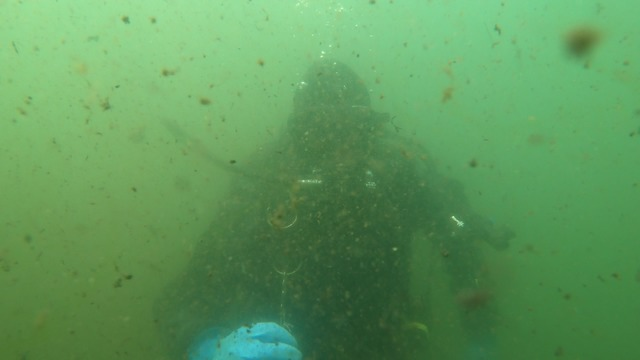Diver: (127, 35, 537, 357)
Head: (273, 53, 398, 202)
